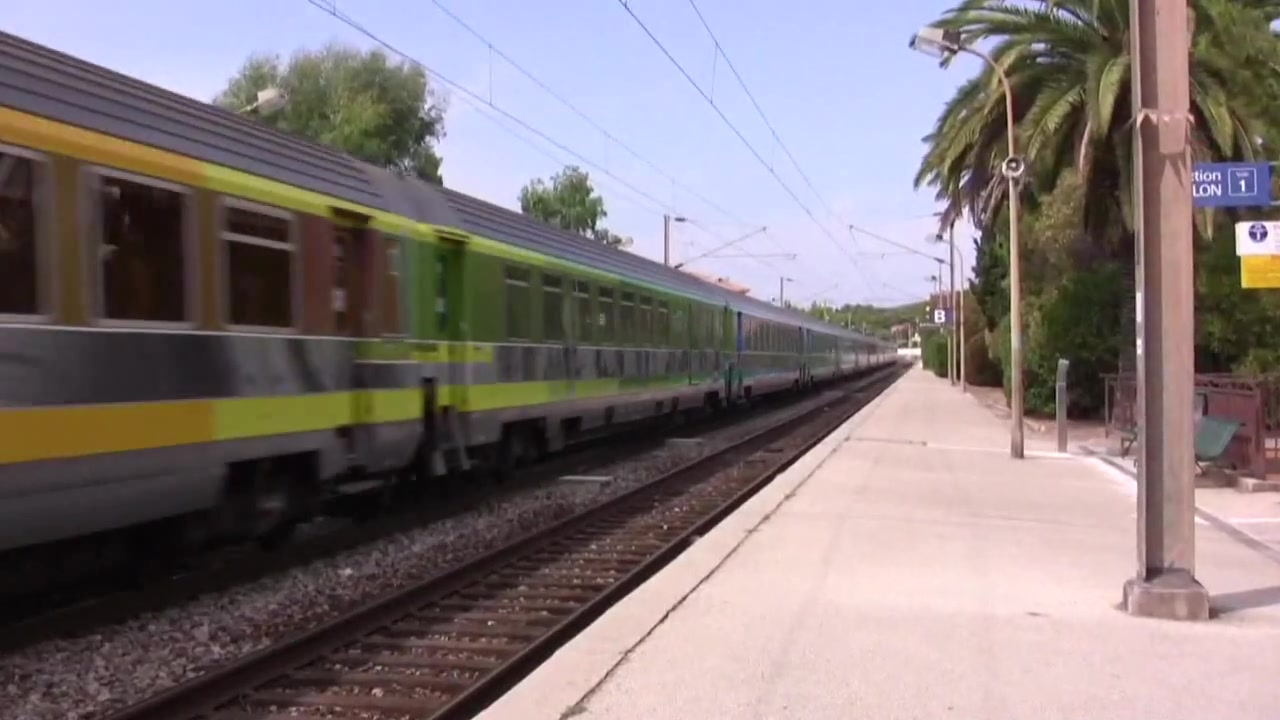train: (1, 26, 903, 560)
